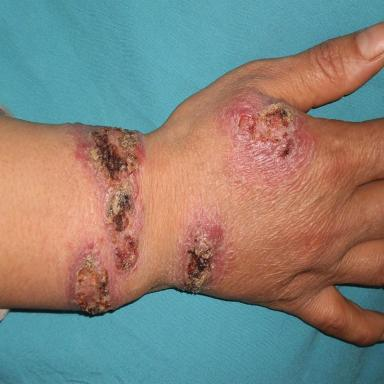Leishmanios: (71, 126, 143, 314), (221, 93, 313, 191), (175, 207, 233, 292)
